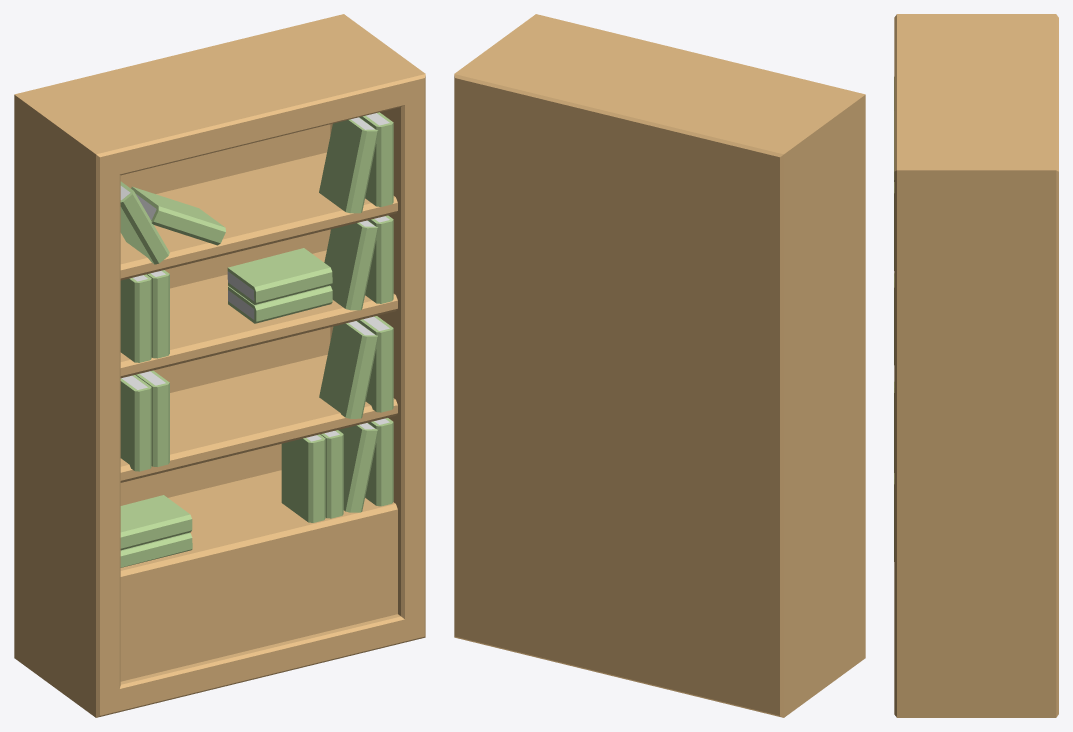
The model's file is bookshelf_01.fbx.
3 views of the same model, side by side, from view 1: azimuth 30°, elevation 25°; view 2: azimuth 150°, elevation 25°; view 3: azimuth 270°, elevation 25° (orthographic). The views are drawn at different scales.
Parts seen in each view (by area): view 1: pCube256, pCube261, pCube257, pCube255, pCube263, pCube267, pCube264, pCube266, pCube259, pCube268, pCube258, pCube265 (+2 smaller); view 2: pCube256; view 3: pCube256.
Part boxes in pixels (x1,y1,x2,y2): pCube256: (14, 14, 425, 717); pCube261: (120, 470, 397, 681); pCube257: (120, 354, 397, 482); pCube255: (120, 152, 397, 280); pCube263: (120, 112, 393, 264); pCube267: (120, 215, 393, 362); pCube264: (281, 418, 393, 522); pCube266: (120, 250, 397, 378); pCube259: (227, 248, 332, 323); pCube268: (120, 495, 192, 567); pCube258: (319, 321, 378, 418); pCube265: (120, 375, 151, 471); pCube256: (454, 14, 865, 717); pCube256: (894, 14, 1058, 717).
Size of the model in its own units: 7.14 by 11.66 by 3.18.
